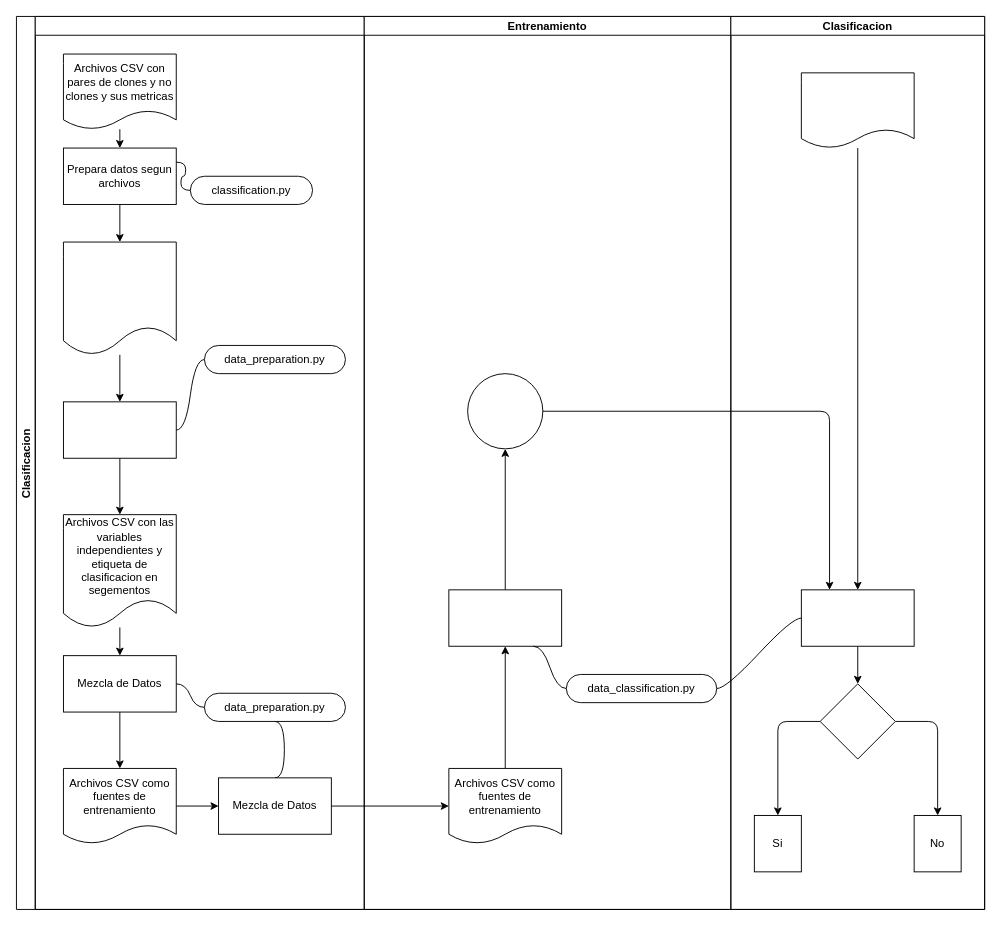
The diagram is 1001 pixels wide and 926 high, and some of its shapes have lost their labels. The shapes that lost their labels are listed below. From the top down, each one's box as (x1, y1, x2, y2) in pixels, then its label:
(800, 72, 914, 148): Archivos CSV con pares a clasificar
(63, 241, 176, 355): Archivos CSV con las variables independientes y etiqueta de clasificacion
(63, 401, 176, 458): Segmentacion (CHOP)
(467, 373, 543, 449): Modelo
(34, 16, 364, 909): Preparacion
(448, 589, 562, 646): Creacion de Modelo con Random Forest
(800, 589, 914, 646): Prediccion
(819, 683, 895, 759): Clone?
